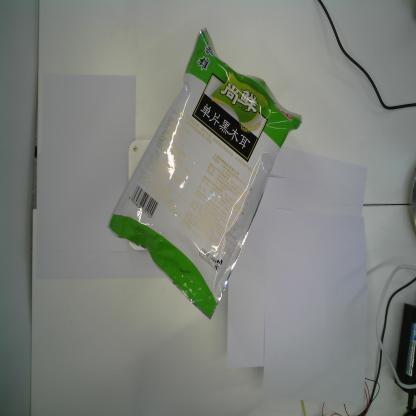Dried Food: (106, 26, 303, 322)
